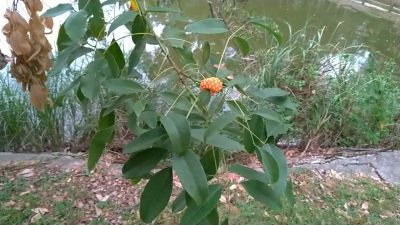eggs: (197, 73, 223, 97)
